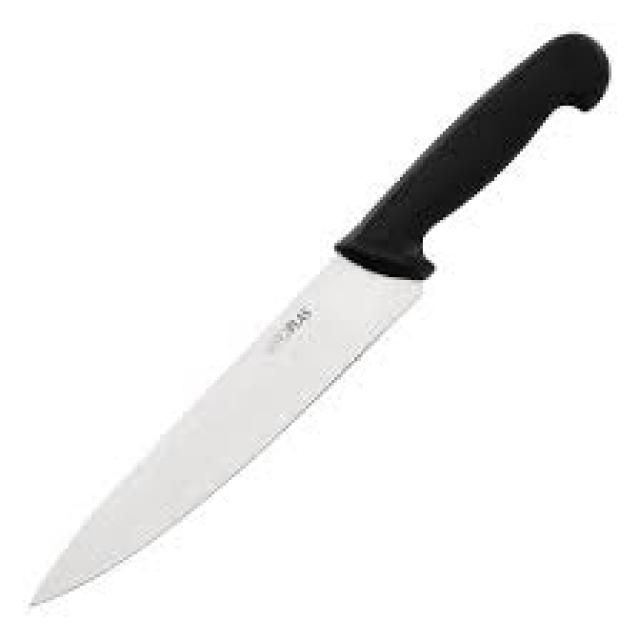knives: (23, 23, 614, 614)
